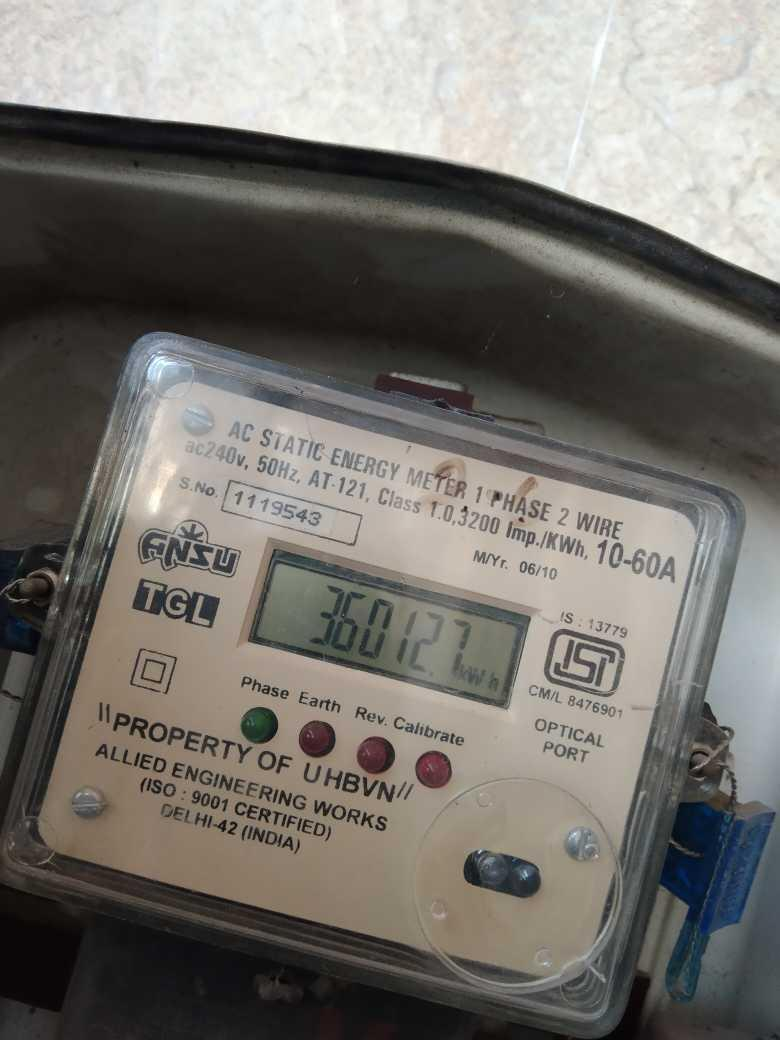.: (457, 663, 504, 698)
0: (428, 670, 436, 679)
1: (358, 595, 394, 666)
2: (389, 598, 420, 671)
3: (409, 601, 446, 674)
4: (311, 581, 344, 650)
7: (333, 585, 365, 658)
8: (447, 605, 475, 680)
